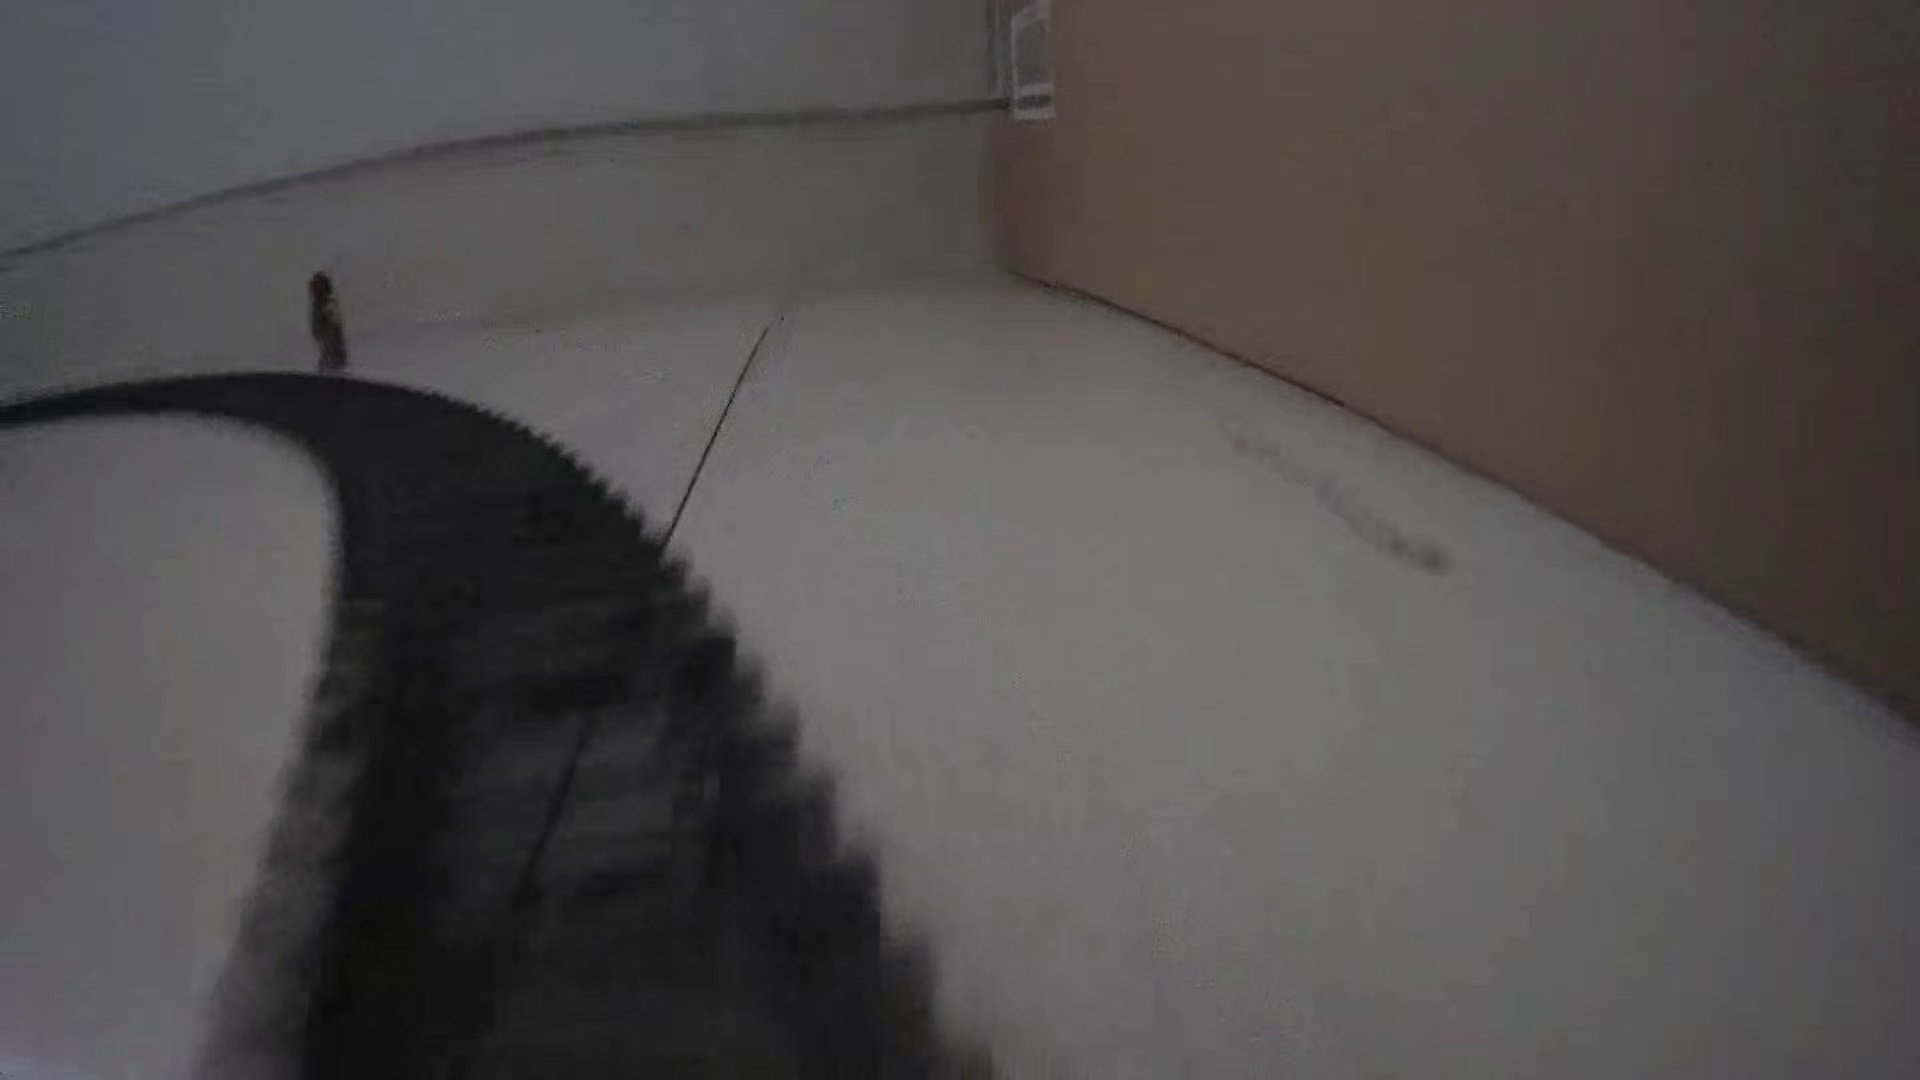people: (304, 268, 348, 367)
